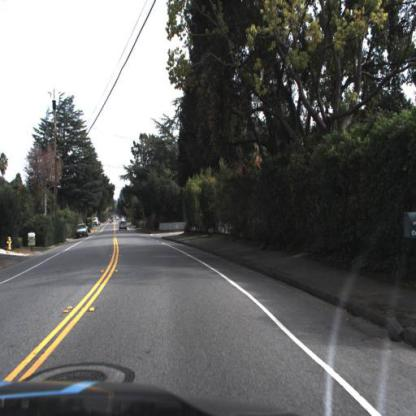car: (76, 222, 90, 240), (117, 219, 129, 235), (121, 220, 130, 234)
